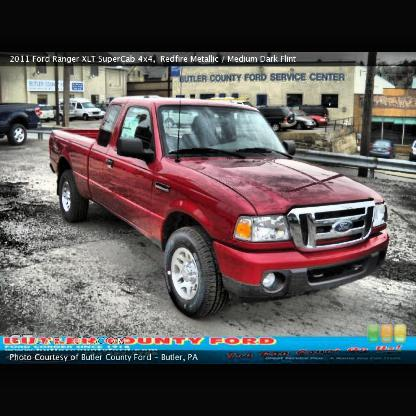Ford Ranger SuperCab 2011: (49, 99, 390, 320)
